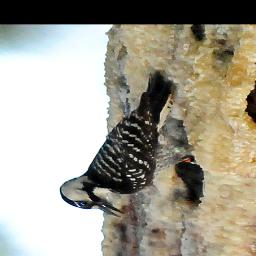Woodpecker: (56, 70, 194, 217)
